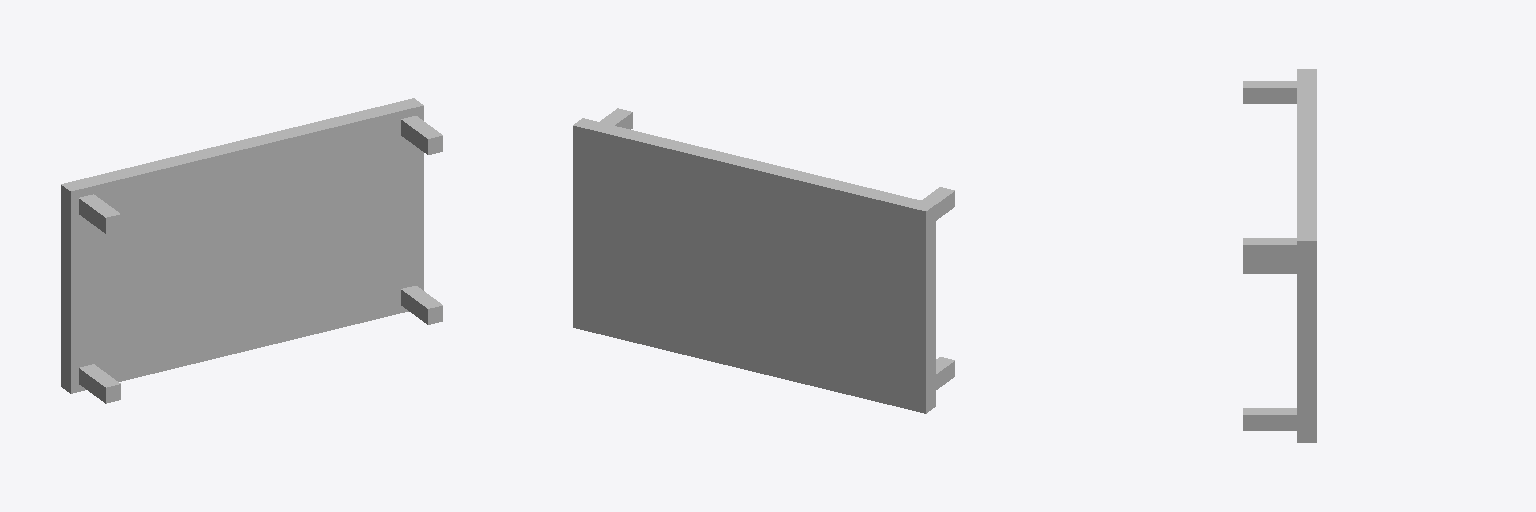
Rendered from random_table78.obj.
3 views of the same model, side by side, from view 1: azimuth 30°, elevation 25°; view 2: azimuth 150°, elevation 25°; view 3: azimuth 270°, elevation 25° (orthographic).
Parts seen in each view (by area): view 1: Table_Cube.1455, TableLeg0_Cube.1456, TableLeg1_Cube.1457, TableLeg2_Cube.1458, TableLeg3_Cube.1459; view 2: Table_Cube.1455, TableLeg1_Cube.1457; view 3: Table_Cube.1455, TableLeg0_Cube.1456, TableLeg1_Cube.1457, TableLeg2_Cube.1458, TableLeg3_Cube.1459.
Boxes of the visible parts, <box> form: Table_Cube.1455: <box>61,98,423,393</box>; TableLeg0_Cube.1456: <box>401,116,442,154</box>; TableLeg1_Cube.1457: <box>79,194,120,233</box>; TableLeg2_Cube.1458: <box>401,286,442,324</box>; TableLeg3_Cube.1459: <box>79,364,120,403</box>; Table_Cube.1455: <box>573,118,935,413</box>; TableLeg1_Cube.1457: <box>921,187,954,220</box>; Table_Cube.1455: <box>1297,69,1316,442</box>; TableLeg0_Cube.1456: <box>1243,238,1296,261</box>; TableLeg1_Cube.1457: <box>1243,81,1296,103</box>; TableLeg2_Cube.1458: <box>1243,408,1296,430</box>; TableLeg3_Cube.1459: <box>1243,262,1296,273</box>.
Bounding box in the file's own units: 10.41 × 5.69 × 1.9.